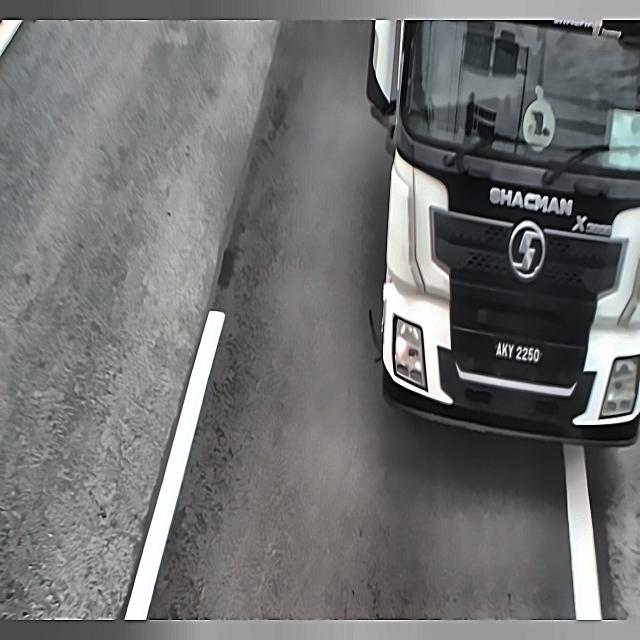car: (490, 334, 546, 370)
